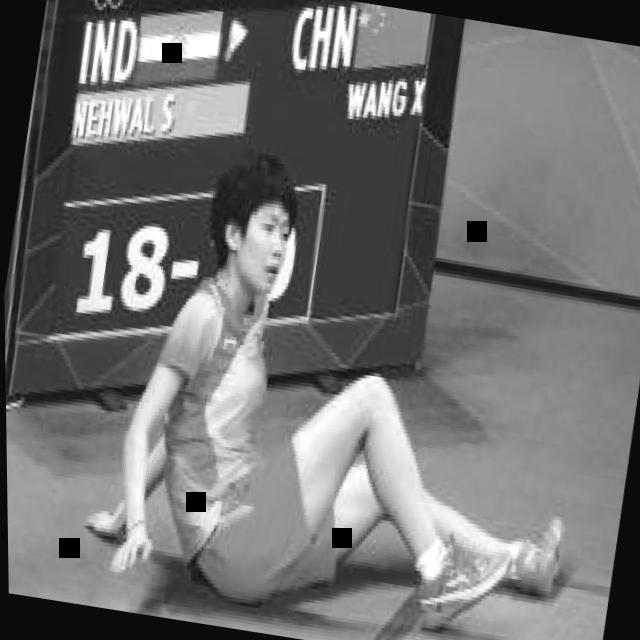Fall-Detected: (62, 106, 629, 640)
